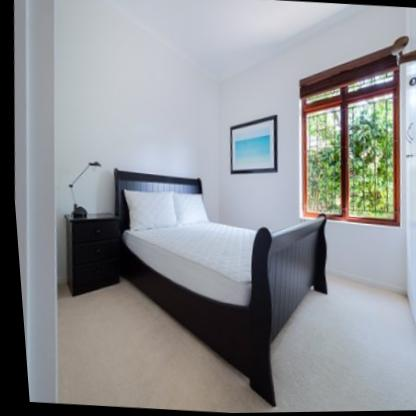Bed: (116, 175, 324, 406)
Frame: (227, 117, 275, 175)
Nightstand: (65, 216, 117, 297)
Window: (296, 46, 400, 230)
